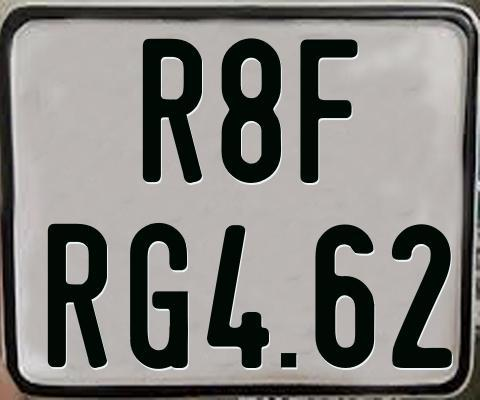2: (392, 224, 453, 372)
4: (205, 222, 270, 368)
6: (314, 221, 378, 370)
8: (220, 35, 281, 182)
F: (299, 36, 358, 183)
G: (127, 220, 185, 367)
R: (48, 222, 112, 367), (142, 39, 203, 186)
